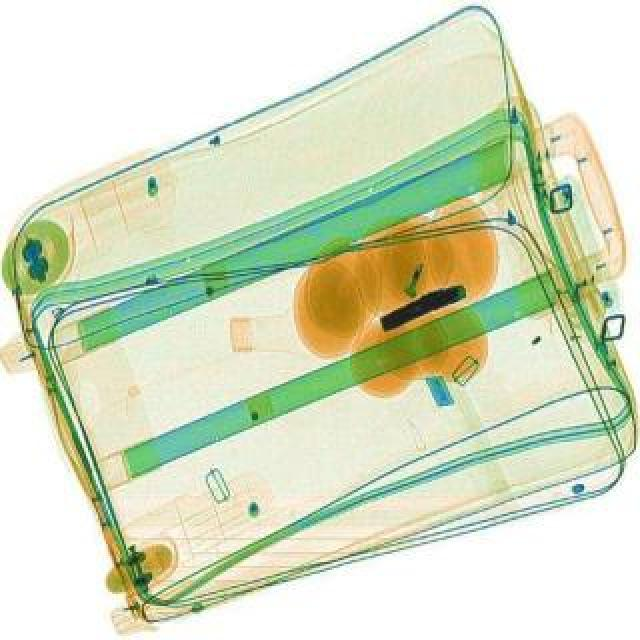gun: (374, 276, 472, 332)
